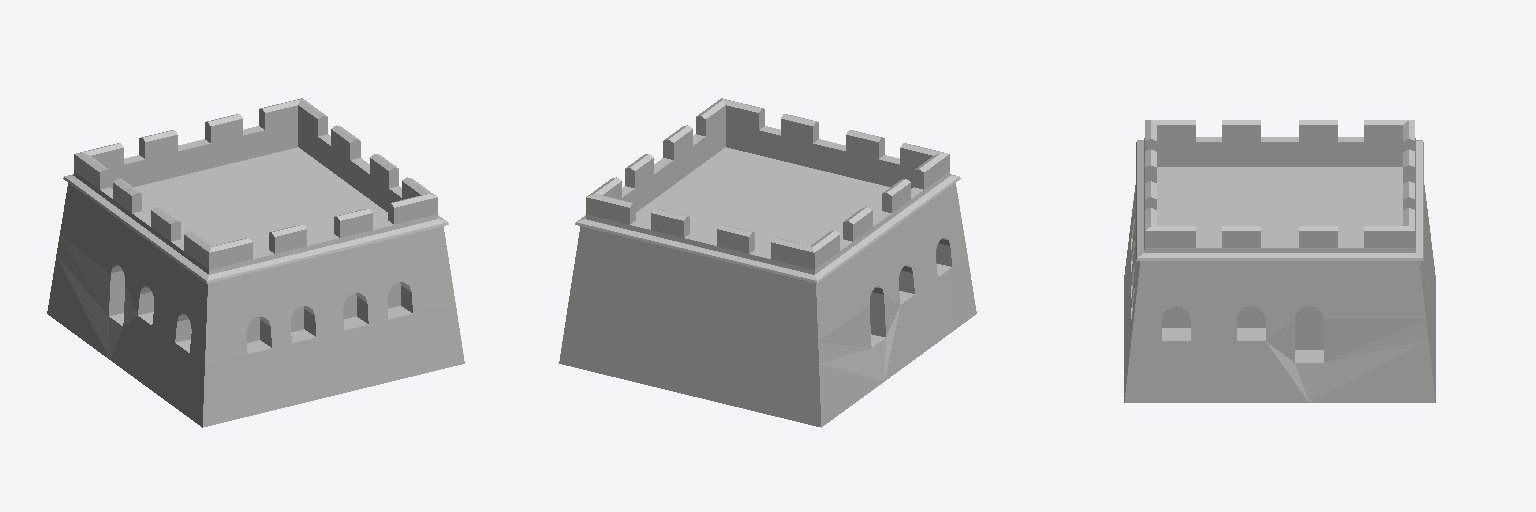
Rendered from torretta.obj.
3 views of the same model, side by side, from view 1: azimuth 30°, elevation 25°; view 2: azimuth 150°, elevation 25°; view 3: azimuth 270°, elevation 25° (orthographic).
Parts seen in each view (by area): view 1: torretta_torretta_merletti.001; view 2: torretta_torretta_merletti.001; view 3: torretta_torretta_merletti.001.
Part boxes in pixels (x1,y1,x2,y2): torretta_torretta_merletti.001: (47,98,464,427); torretta_torretta_merletti.001: (559,98,976,427); torretta_torretta_merletti.001: (1124,120,1435,402).
Bounding box in the file's own units: 13.29 × 8.01 × 13.64.